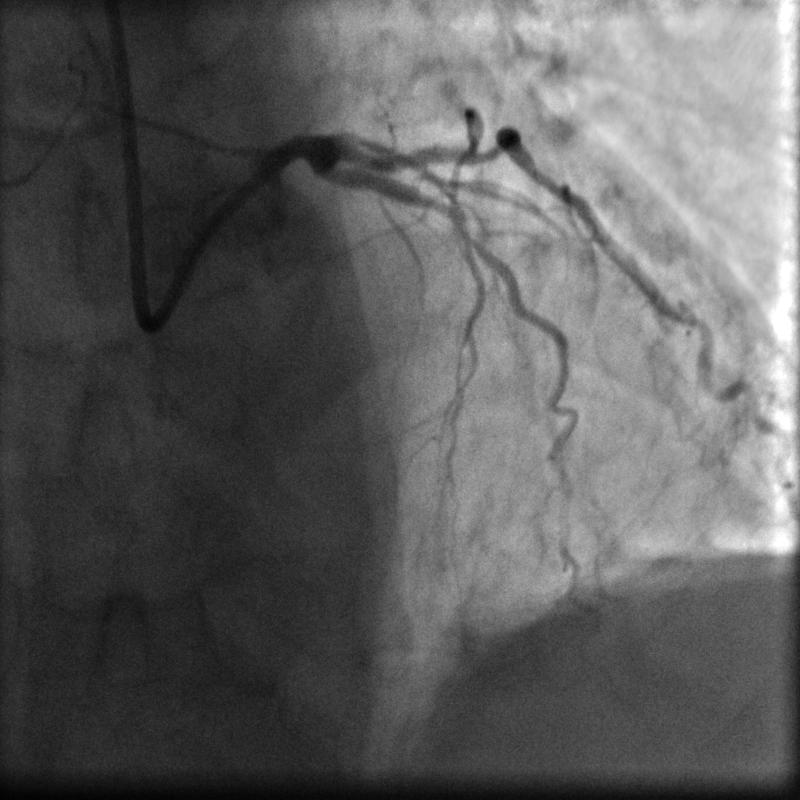Stenosis: (411, 180, 477, 226)
